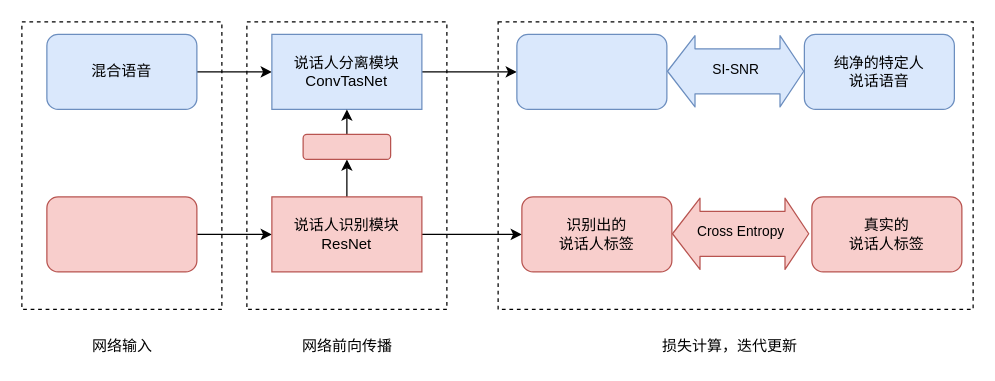
Image size: 995x381. Some labels were removed from this diagram. The shapes that lost their labels are listed below. From the top down, each one's centre as x and y in pixels, then its label:
At (x=591, y=71): "分离出的 特定人语音".
At (x=346, y=146): "embedding".
At (x=121, y=234): "特定说话人 纯净语音".
